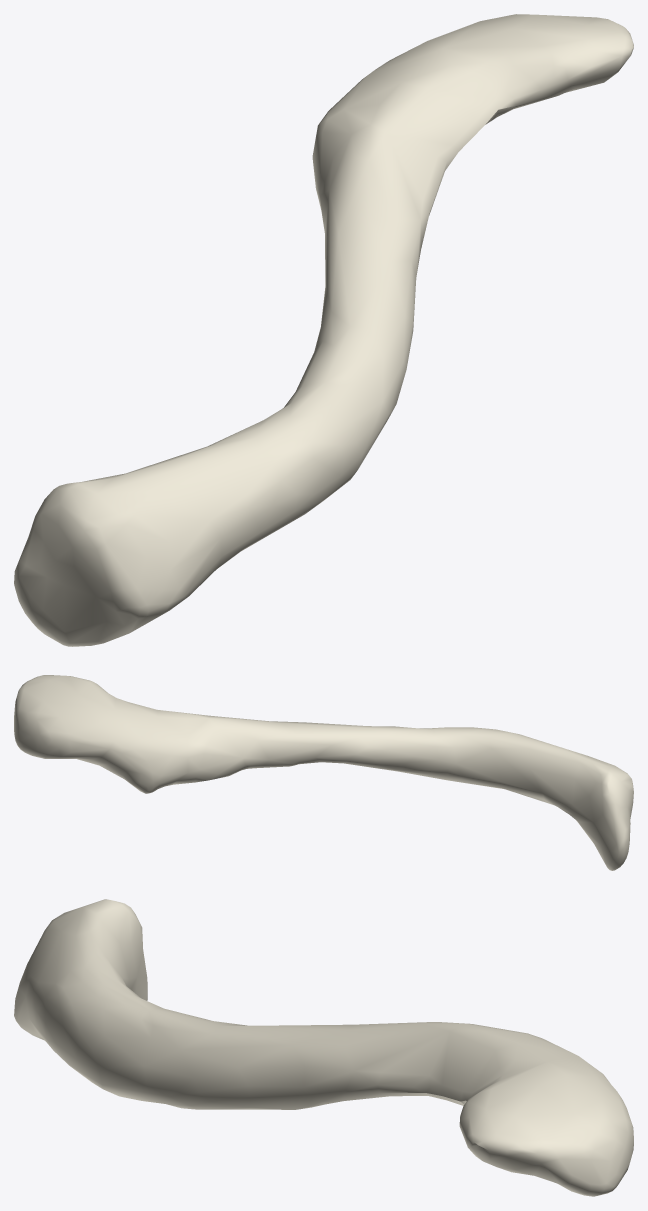
Rendered from fma13323_fj3237.glb.
The picture shows the model from 3 angles, top to bottom: view 1: azimuth 30°, elevation 25°; view 2: azimuth 150°, elevation 25°; view 3: azimuth 270°, elevation 25°; orthographic projection. The views are drawn at different scales.
Parts seen in each view (by area): view 1: FMA13323_FJ3237; view 2: FMA13323_FJ3237; view 3: FMA13323_FJ3237.
Boxes of the visible parts, x1=… form: FMA13323_FJ3237: x1=14, y1=14, x2=633, y2=646; FMA13323_FJ3237: x1=14, y1=675, x2=633, y2=870; FMA13323_FJ3237: x1=14, y1=899, x2=633, y2=1196.
Size of the model in its own units: 0.1356 by 0.0467 by 0.0927.
